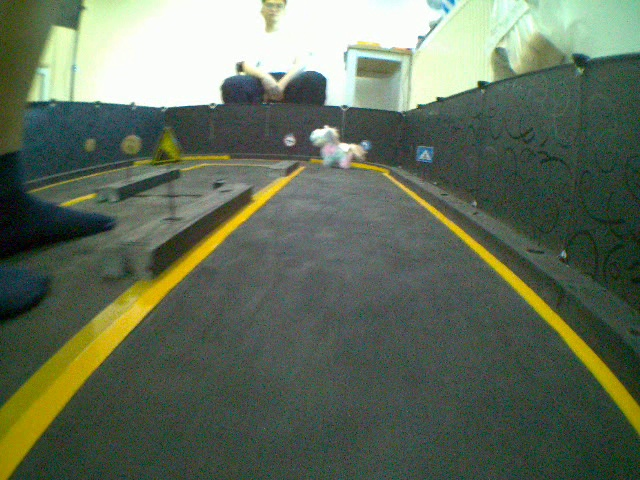unicorn: (308, 122, 367, 171)
